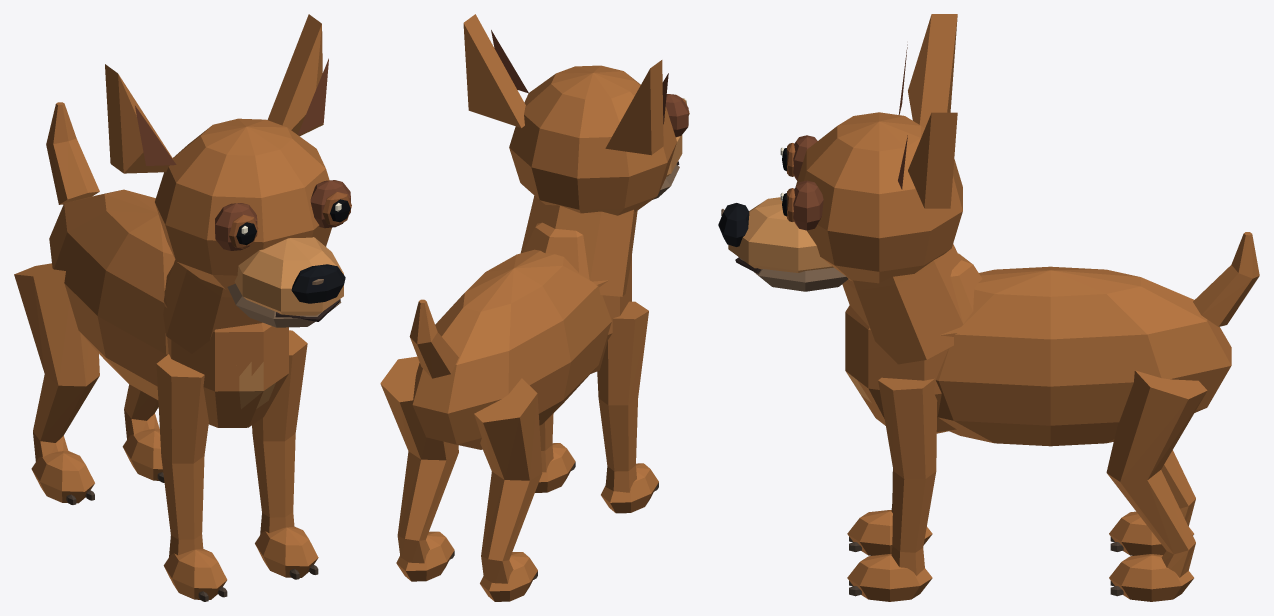
Rendered from pequeno.obj.
3 views of the same model, side by side, from view 1: azimuth 30°, elevation 25°; view 2: azimuth 150°, elevation 25°; view 3: azimuth 270°, elevation 25° (orthographic). The views are drawn at different scales.
Visible parts, largest first — view 1: perna, cabeca, tronco, pata, peito, orelha, focinho, pescoco, cauda, olho, interior-orelha, nariz (+4 smaller); view 2: tronco, perna, cabeca, orelha, pata, pescoco, peito, cauda, olho, interior-orelha; view 3: tronco, perna, cabeca, pata, pescoco, orelha, peito, focinho, cauda, olho, mandibula, nariz.
Boxes of the visible parts, box(x1,y1,x2,y2) form: perna: box(14, 263, 307, 556); cabeca: box(155, 118, 331, 290); tronco: box(49, 189, 174, 399); pata: box(31, 428, 318, 599); peito: box(163, 266, 288, 427); orelha: box(105, 14, 323, 173); focinho: box(234, 237, 343, 315); pescoco: box(163, 260, 262, 353); cauda: box(46, 102, 99, 204); olho: box(215, 180, 350, 250); interior-orelha: box(135, 58, 328, 165); nariz: box(291, 264, 345, 303); tronco: box(412, 249, 611, 449); perna: box(380, 301, 648, 583); cabeca: box(509, 65, 676, 215); orelha: box(463, 14, 663, 155); pata: box(396, 443, 658, 601); pescoco: box(520, 196, 637, 296); peito: box(523, 222, 631, 373); cauda: box(409, 299, 458, 378); olho: box(665, 94, 688, 137); interior-orelha: box(491, 30, 668, 124); tronco: box(935, 266, 1231, 446); perna: box(878, 370, 1207, 577); cabeca: box(795, 112, 962, 283); pata: box(847, 510, 1193, 601); pescoco: box(842, 244, 963, 364); orelha: box(908, 14, 957, 208); peito: box(845, 253, 982, 433); focinho: box(728, 197, 833, 272); cauda: box(1193, 232, 1259, 326); olho: box(793, 135, 823, 230); mandibula: box(740, 258, 848, 291); nariz: box(718, 203, 749, 246).
Size of the model in its own units: 0.98 by 2.39 by 2.28.
Materials: 1 (1 with a texture image).
